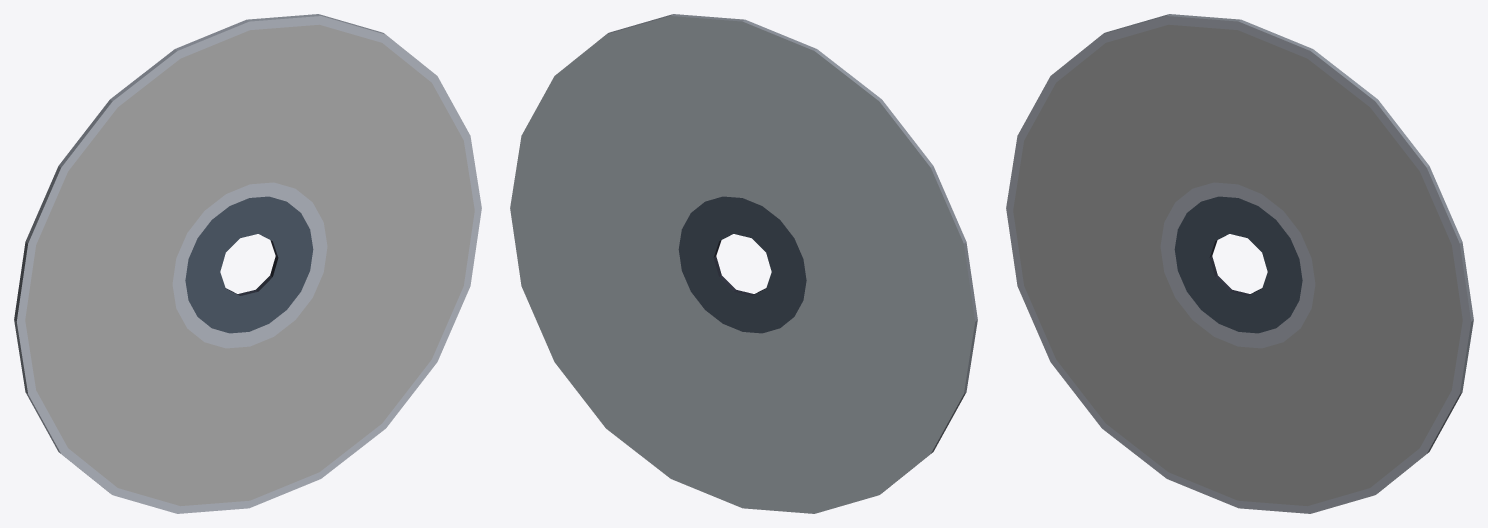
The model's file is pcenginecd.obj.
3 views of the same model, side by side, from view 1: azimuth 30°, elevation 25°; view 2: azimuth 150°, elevation 25°; view 3: azimuth 330°, elevation 25° (orthographic).
Visible parts, largest first — view 1: pcenginecd; view 2: pcenginecd; view 3: pcenginecd.
Boxes of the visible parts, <box> form: pcenginecd: <box>14,14,481,513</box>; pcenginecd: <box>510,14,977,513</box>; pcenginecd: <box>1006,14,1473,513</box>.
Size of the model in its own units: 12 by 12 by 0.15.
